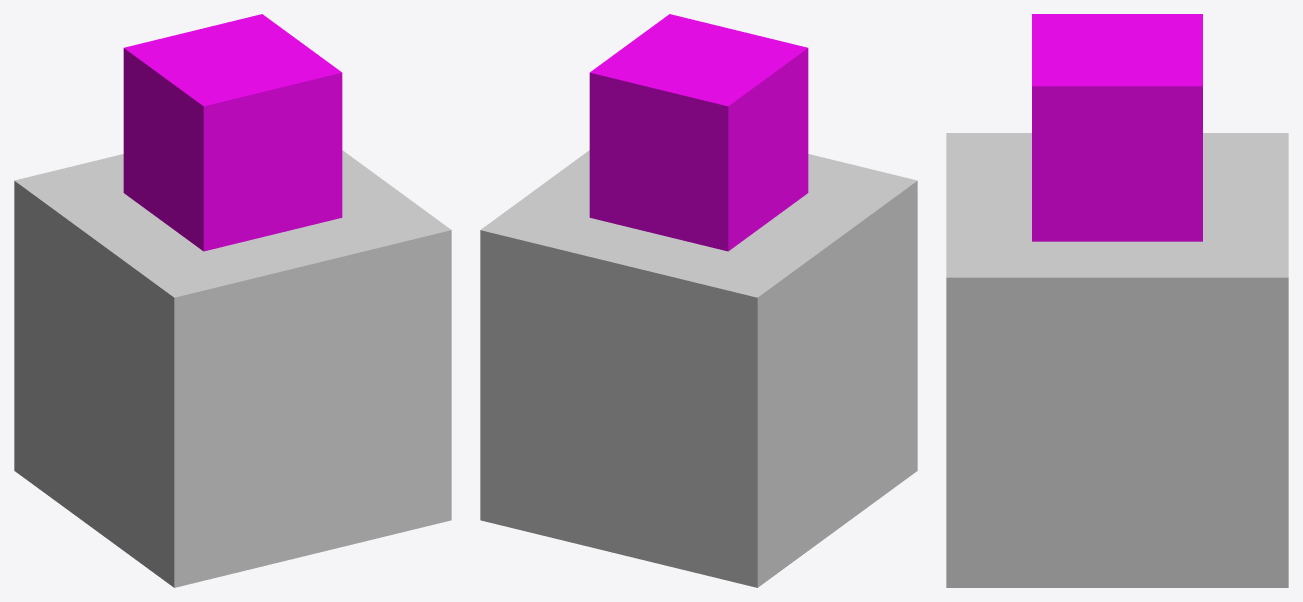
Rendered from tower2.fbx.
3 renders of one model, left to right at view 1: azimuth 30°, elevation 25°; view 2: azimuth 150°, elevation 25°; view 3: azimuth 270°, elevation 25°, orthographic. The views are drawn at different scales.
Visible parts, largest first — view 1: Cube; view 2: Cube; view 3: Cube.
Boxes of the visible parts, x1,y1,x2,y2 form: Cube: (14, 14, 451, 587); Cube: (480, 14, 917, 587); Cube: (946, 14, 1288, 587).
Bounding box in the file's own units: 1 × 1.5 × 1.
